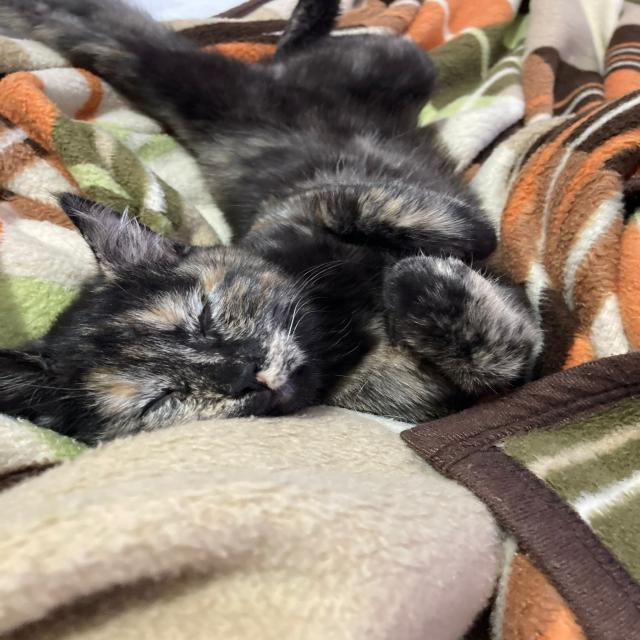authorized: (1, 0, 544, 447)
